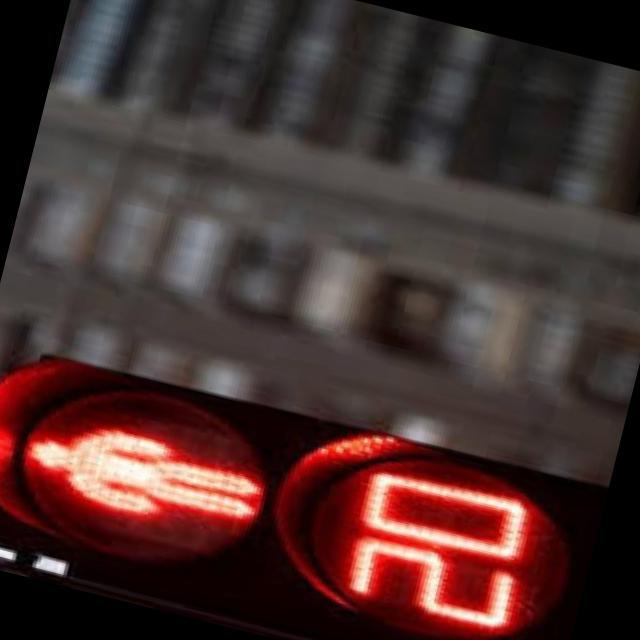red_light: (2, 374, 550, 638)
